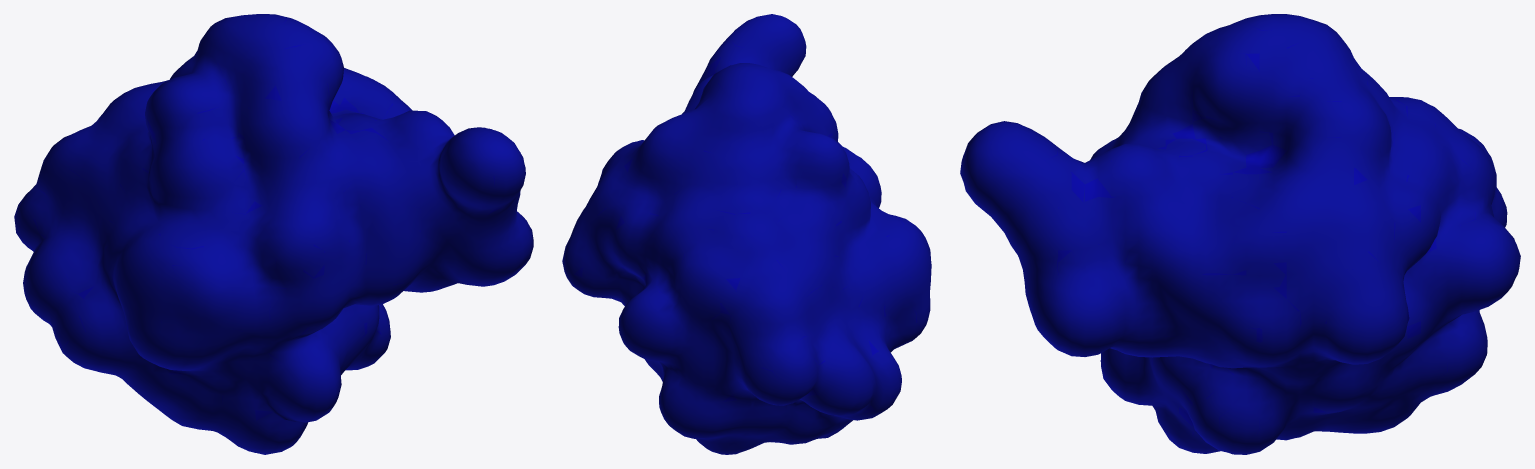
File: proteinA.fbx
3 renders of one model, left to right at view 1: azimuth 30°, elevation 25°; view 2: azimuth 150°, elevation 25°; view 3: azimuth 270°, elevation 25°, orthographic. The views are drawn at different scales.
Visible parts, largest first — view 1: vmd_mol0_rep3; view 2: vmd_mol0_rep3; view 3: vmd_mol0_rep3.
Boxes of the visible parts, x1=… form: vmd_mol0_rep3: x1=14, y1=14, x2=533, y2=454; vmd_mol0_rep3: x1=562, y1=14, x2=931, y2=454; vmd_mol0_rep3: x1=960, y1=14, x2=1520, y2=454.
Size of the model in its own units: 1.37 by 1.45 by 1.65.
